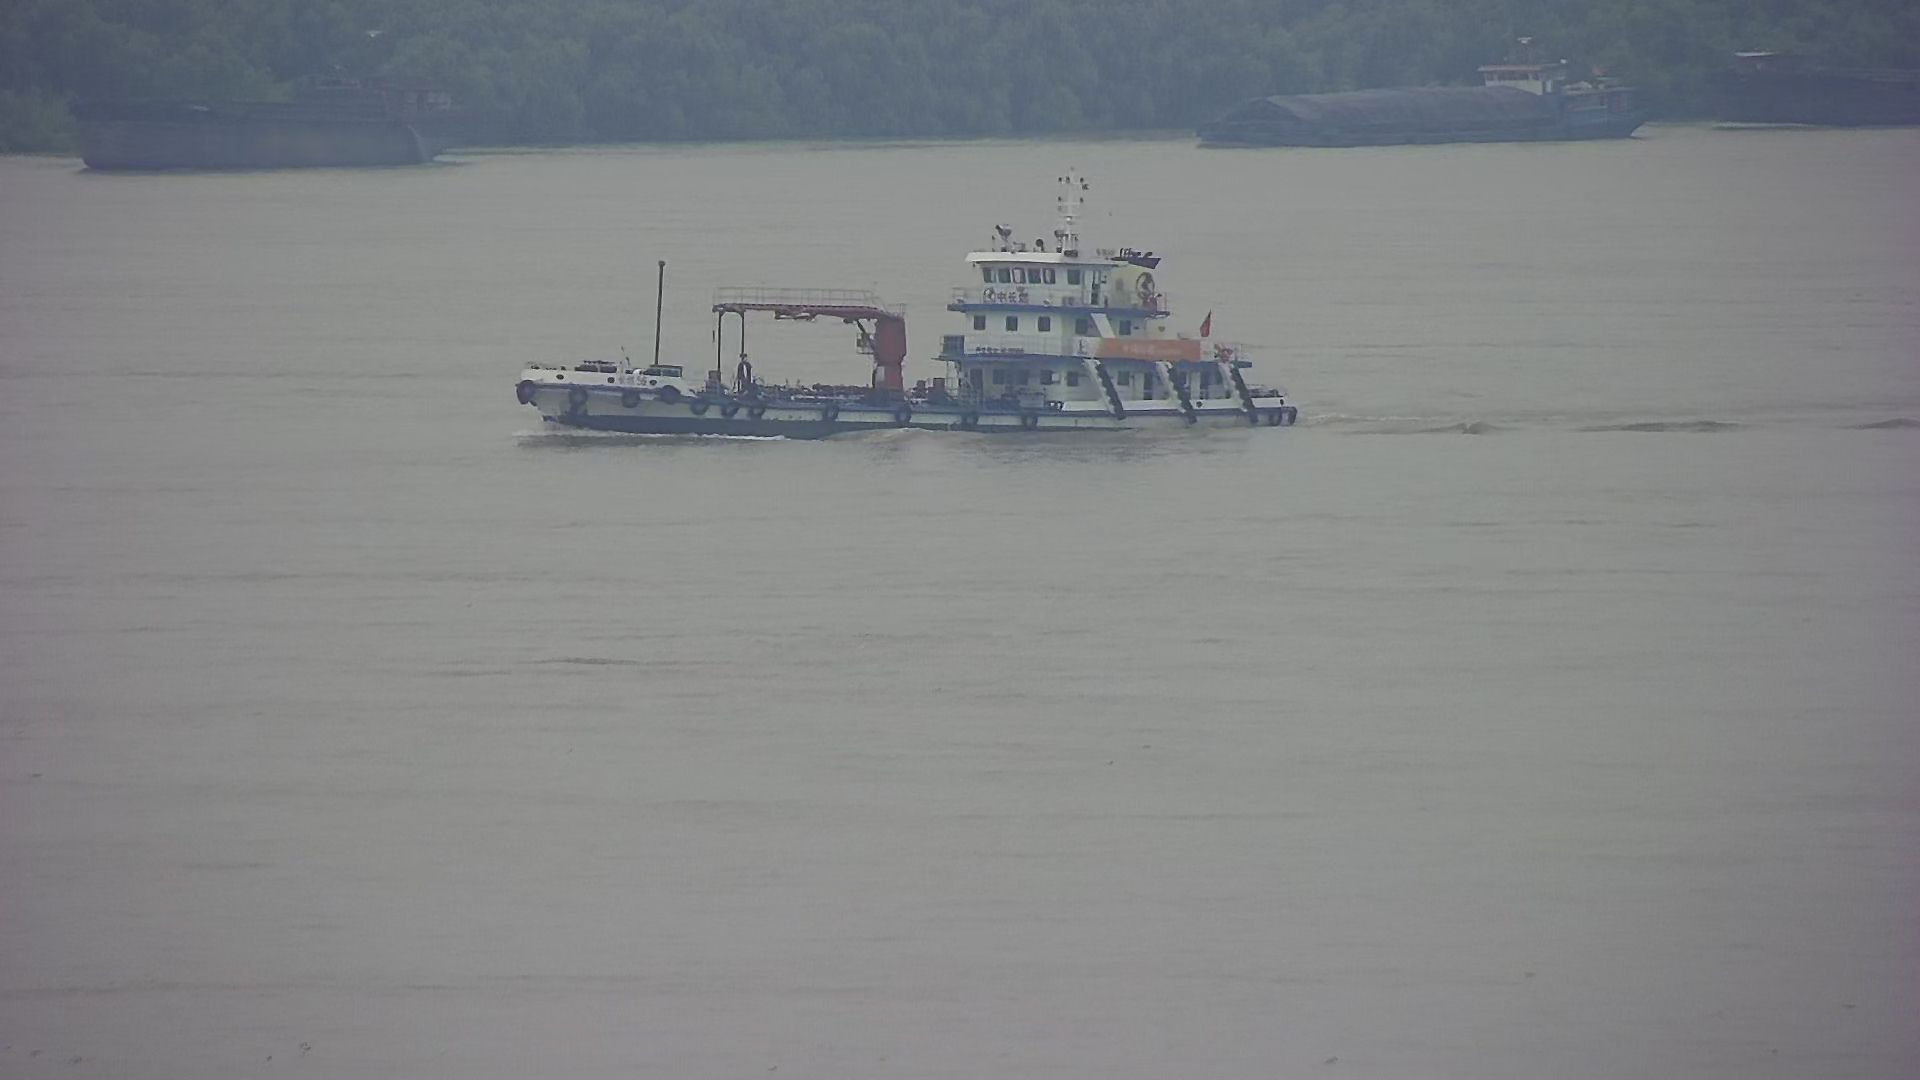ship: (491, 202, 1338, 448), (58, 50, 480, 187), (1174, 37, 1654, 153), (1720, 44, 1920, 132)
